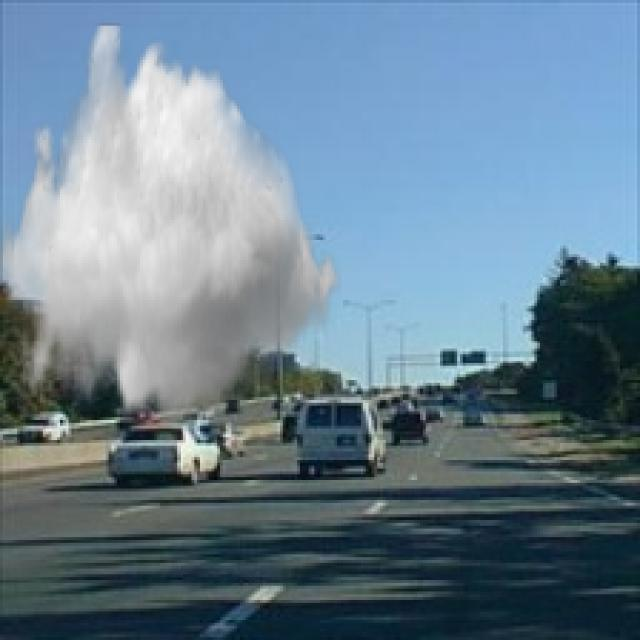Smoke: (0, 22, 346, 432)
